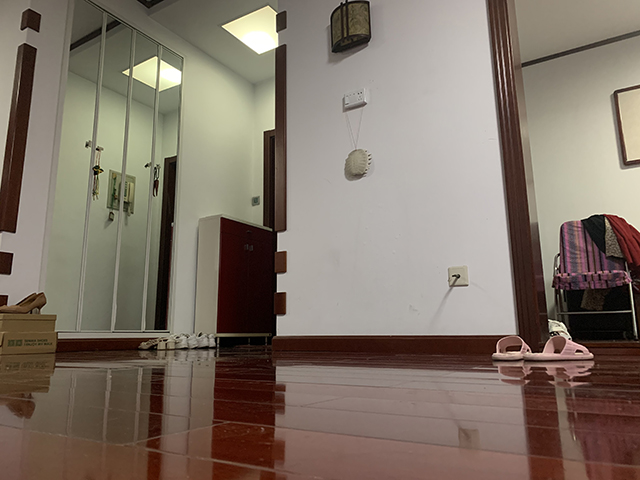cabinet: (190, 213, 278, 349)
slippers: (527, 333, 596, 362), (490, 332, 531, 363)
stool: (549, 212, 640, 342)
